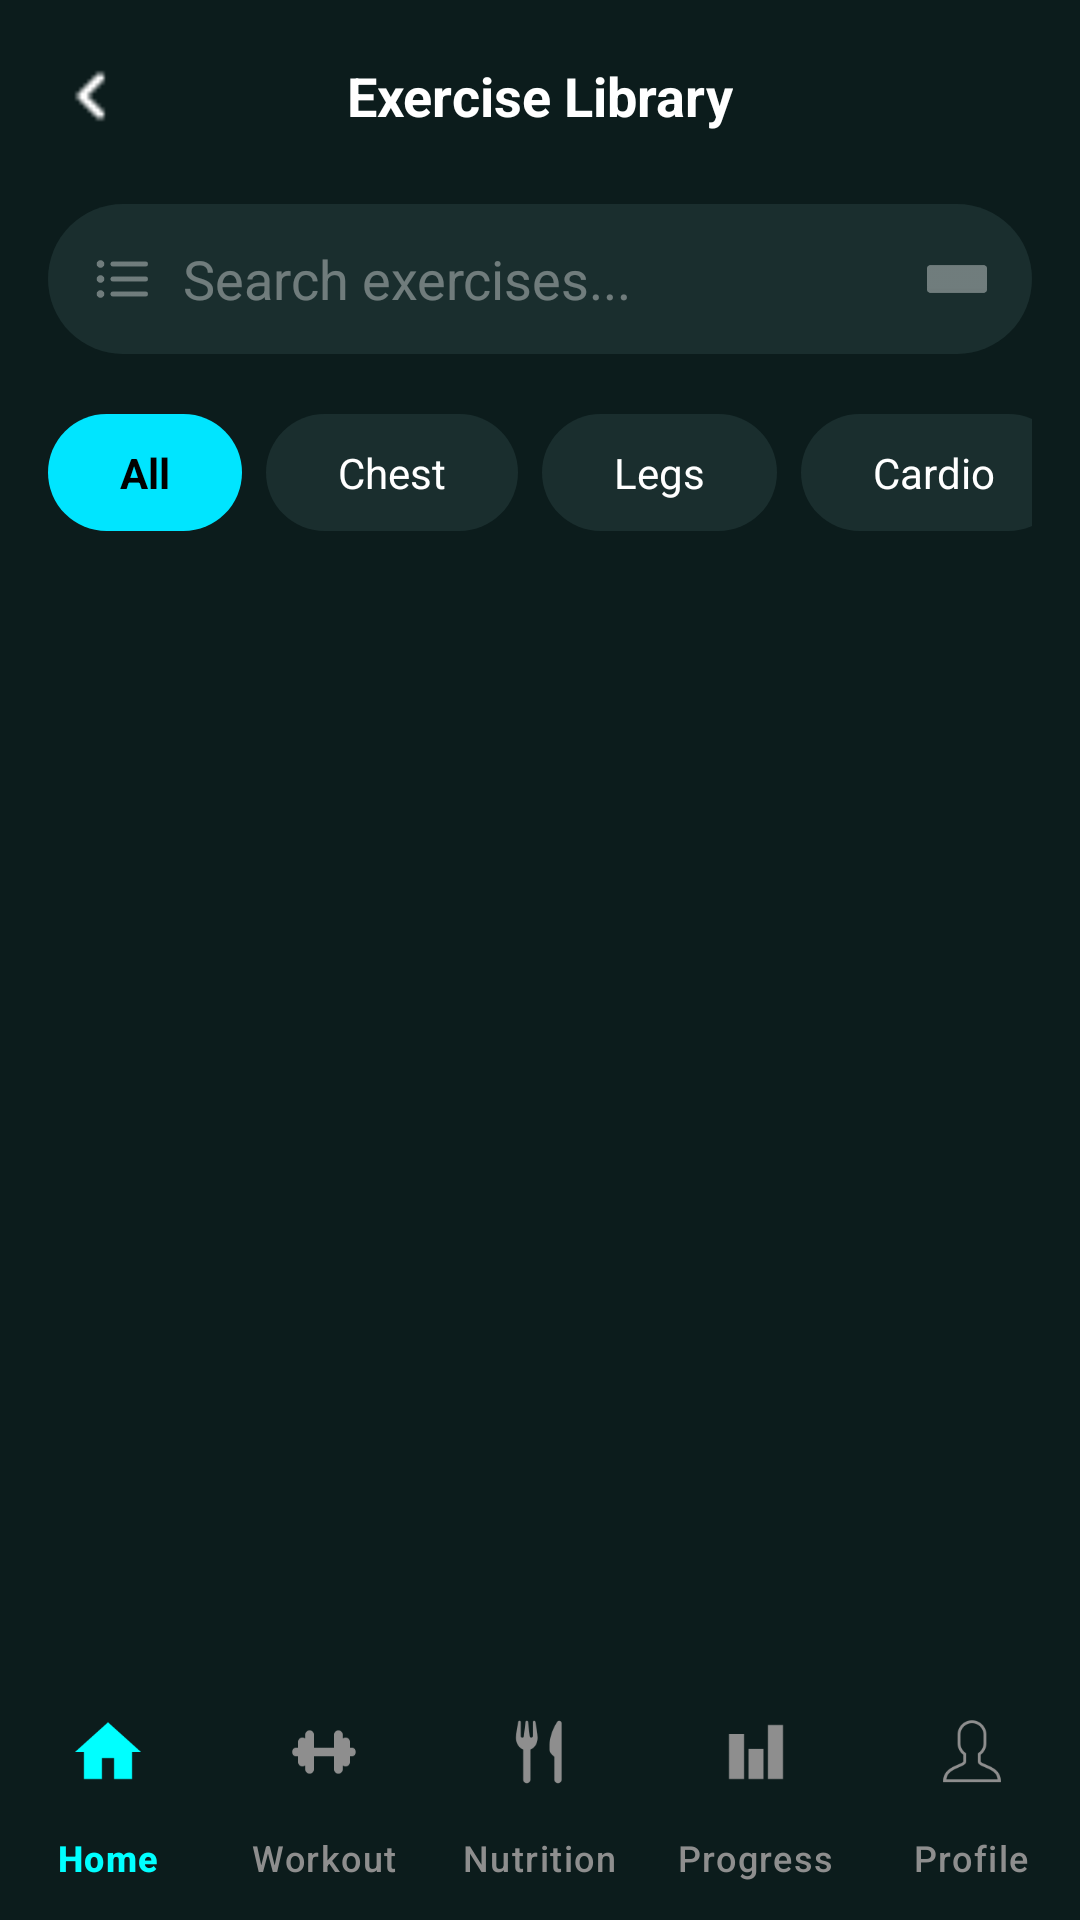

Where to tap for icons on this 1080×1920 app screen, as point (x, y):
back: point (90, 96)
